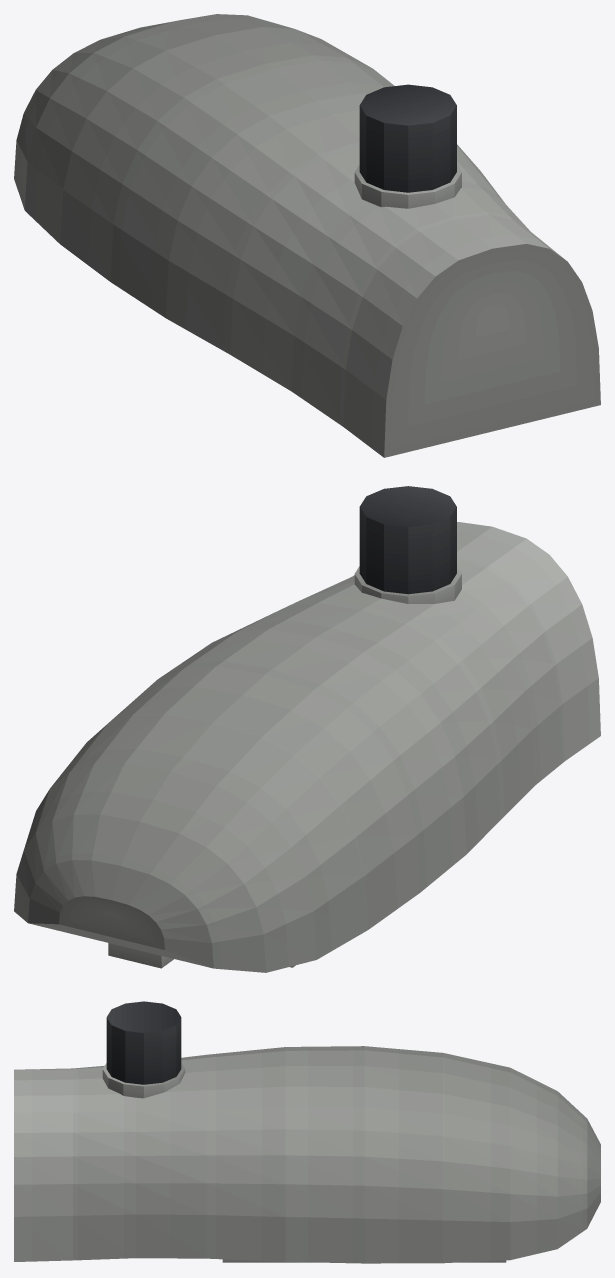
Rendered from streetlight_gem400r1cu.obj.
The picture shows the model from 3 angles, top to bottom: view 1: azimuth 30°, elevation 25°; view 2: azimuth 150°, elevation 25°; view 3: azimuth 270°, elevation 25°; orthographic projection. The views are drawn at different scales.
Visible parts, largest first — view 1: fixture; view 2: fixture; view 3: fixture.
Boxes of the visible parts, bbox=[...] form: fixture: bbox=[14, 14, 600, 457]; fixture: bbox=[14, 486, 600, 972]; fixture: bbox=[14, 1001, 600, 1263].
Size of the model in its own units: 0.4375 by 0.3573 by 0.9312.
